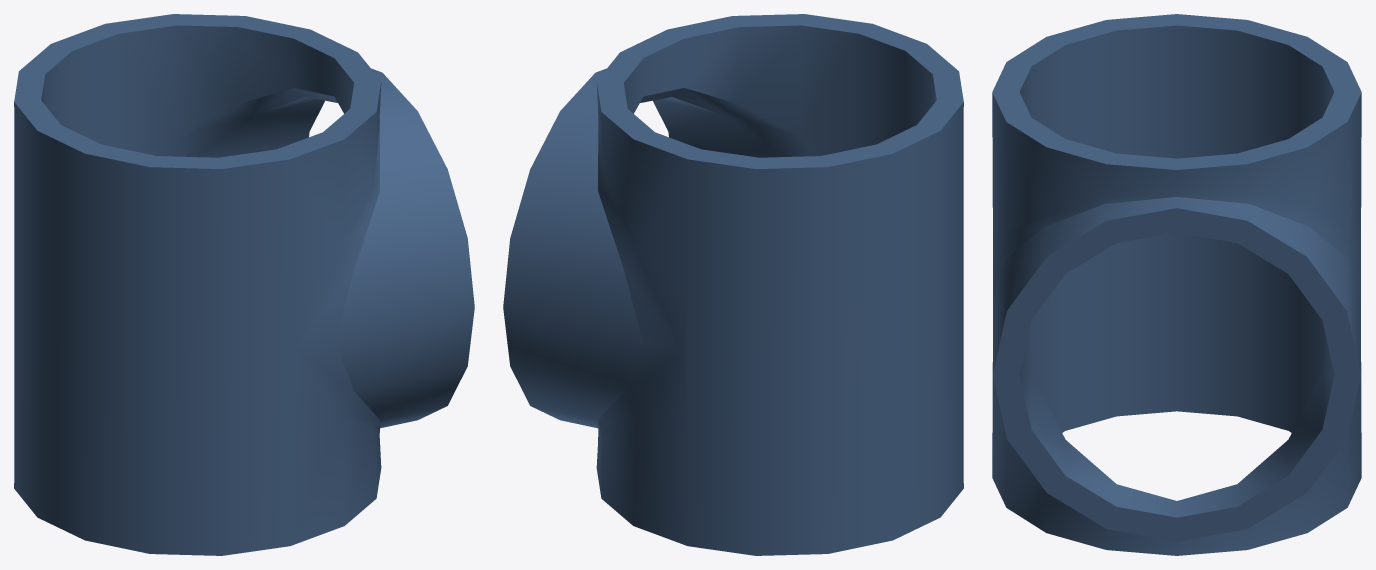
The model's file is pipe_t.glb.
3 renders of one model, left to right at view 1: azimuth 30°, elevation 25°; view 2: azimuth 150°, elevation 25°; view 3: azimuth 270°, elevation 25°, orthographic.
Visible parts, largest first — view 1: Pipe_T; view 2: Pipe_T; view 3: Pipe_T.
Part boxes in pixels (x1=…): Pipe_T: x1=14, y1=14, x2=474, y2=555; Pipe_T: x1=503, y1=14, x2=963, y2=555; Pipe_T: x1=992, y1=14, x2=1361, y2=555.
Bounding box in the file's own units: 1.87 × 2 × 1.74.
